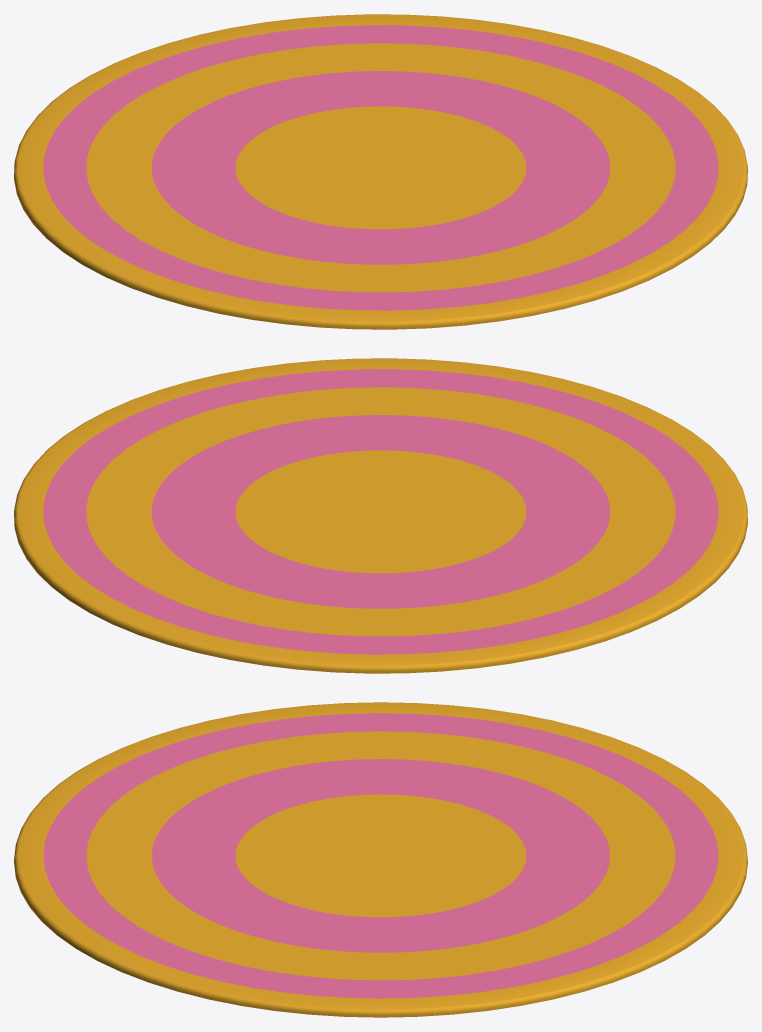
The model's file is RoundCarpet_v1.fbx.
The picture shows the model from 3 angles, top to bottom: view 1: azimuth 30°, elevation 25°; view 2: azimuth 150°, elevation 25°; view 3: azimuth 270°, elevation 25°; orthographic projection.
Visible parts, largest first — view 1: RoundCarpet; view 2: RoundCarpet; view 3: RoundCarpet.
Boxes of the visible parts, x1,y1,x2,y2 form: RoundCarpet: [14, 14, 747, 329]; RoundCarpet: [14, 358, 747, 673]; RoundCarpet: [14, 702, 747, 1017].
Size of the model in its own units: 428 by 4.28 by 428.
